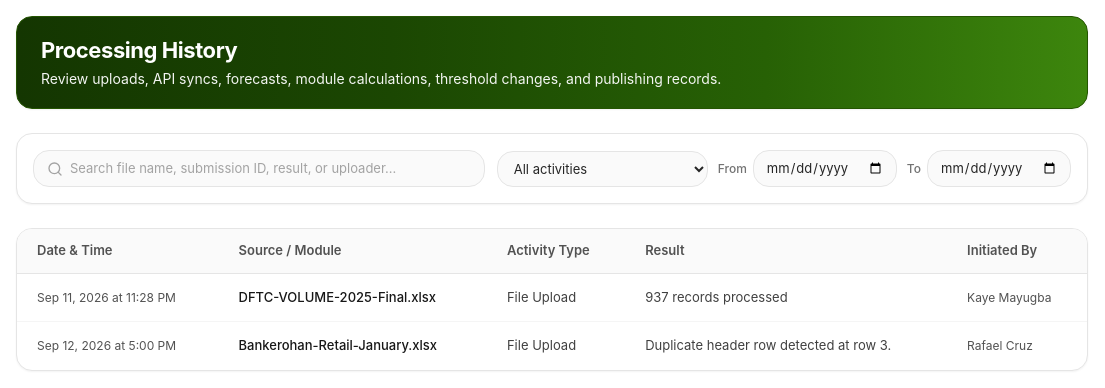
Test: AdminHistory search › restores both rows when the search is cleared
In the field with placeholder "Search file name, submission ID, result, or uploader...": (259, 169) [33,150,485,187], type "volume"
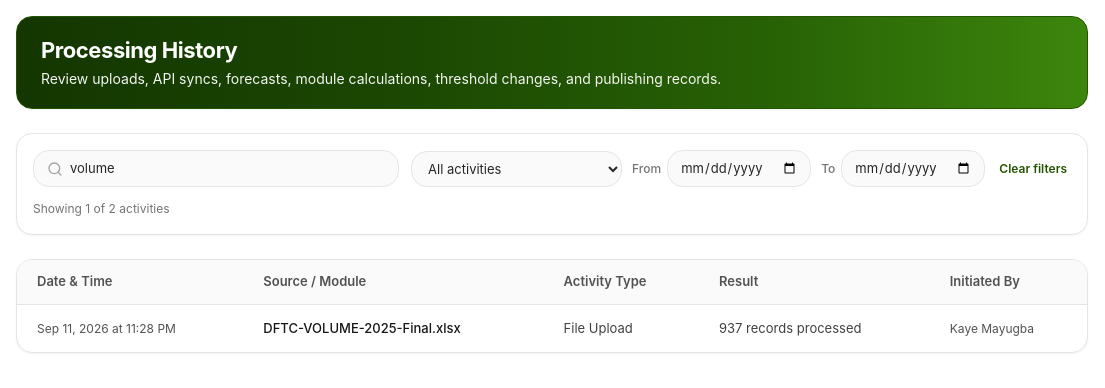
Clear the field with placeholder "Search file name, submission ID, result, or uploader...": (216, 169) [33,150,399,187]
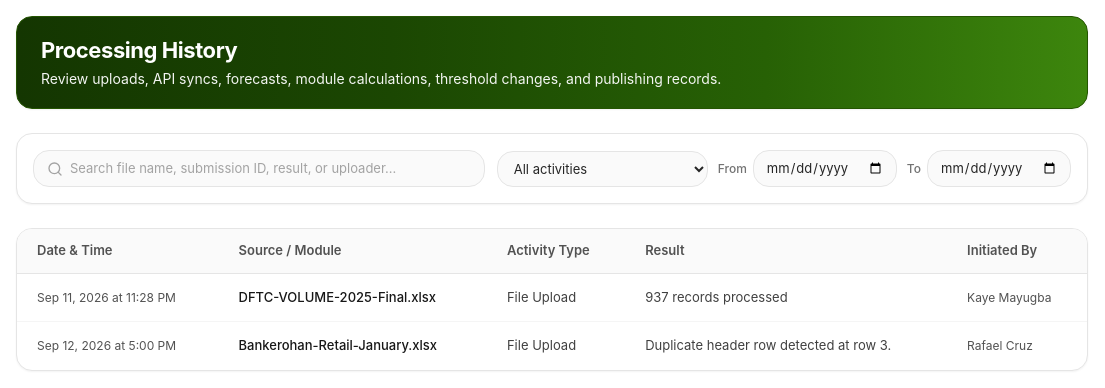
Expected: the text "Showing 1 of 2 activities" is gone
